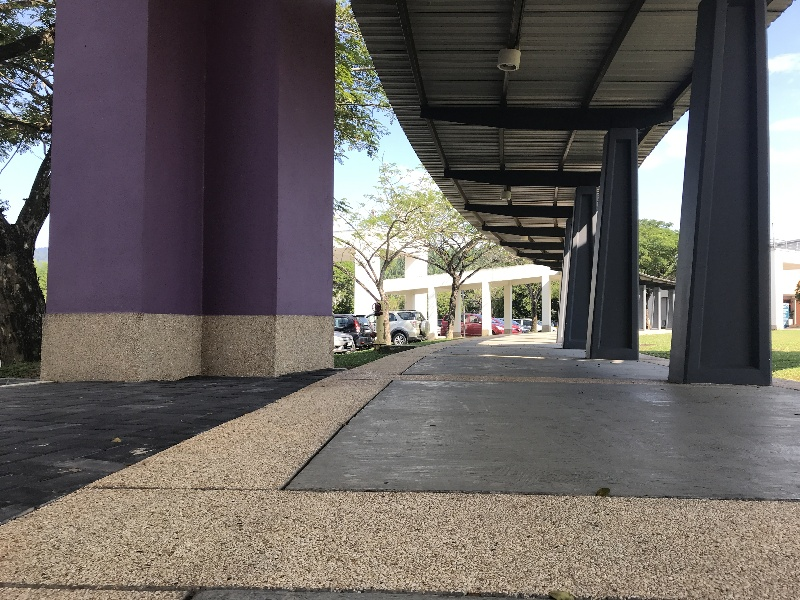Block D corridor: (16, 4, 794, 592)
pillar: (36, 6, 350, 391), (677, 5, 767, 388), (576, 115, 646, 360)
